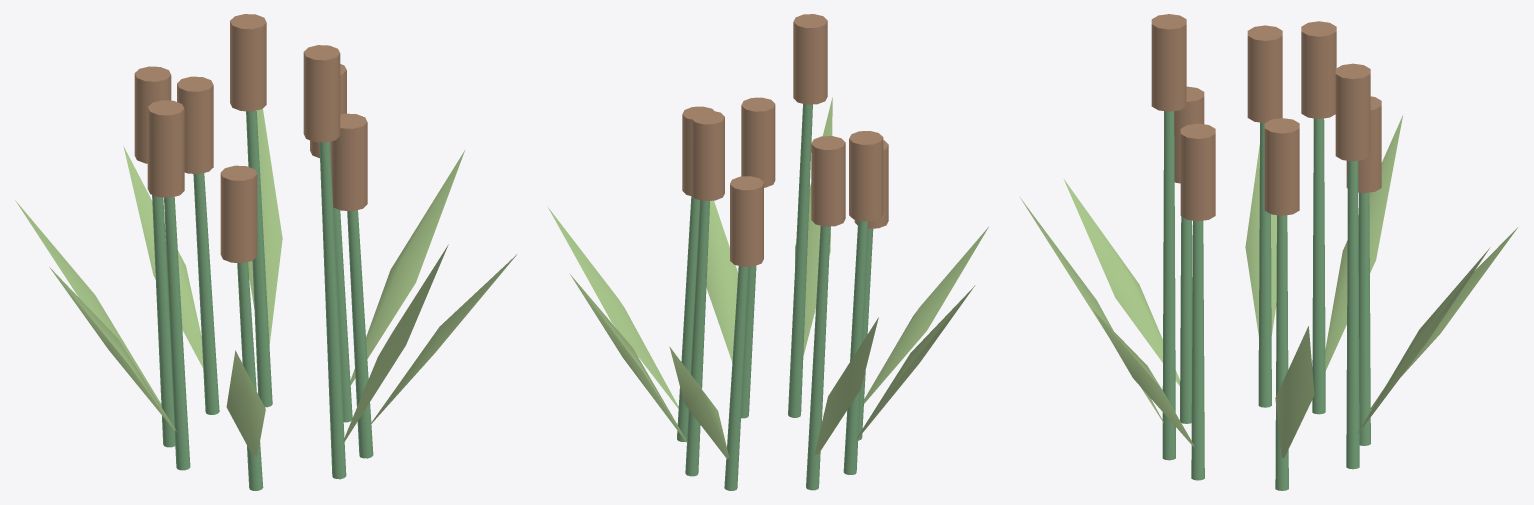
Rendered from plant-reeds-clean.glb.
3 views of the same model, side by side, from view 1: azimuth 30°, elevation 25°; view 2: azimuth 150°, elevation 25°; view 3: azimuth 270°, elevation 25° (orthographic). The views are drawn at different scales.
Parts seen in each view (by area): view 1: plant-reeds-kit-clean-green, plant-reeds-kit-clean-wood, plant-reeds-kit-clean-leaf; view 2: plant-reeds-kit-clean-wood, plant-reeds-kit-clean-green, plant-reeds-kit-clean-leaf; view 3: plant-reeds-kit-clean-green, plant-reeds-kit-clean-wood, plant-reeds-kit-clean-leaf.
Boxes of the visible parts, x1,y1,x2,y2 form: plant-reeds-kit-clean-green: (152, 110, 373, 490); plant-reeds-kit-clean-wood: (134, 14, 367, 263); plant-reeds-kit-clean-leaf: (15, 108, 517, 456); plant-reeds-kit-clean-wood: (682, 14, 888, 266); plant-reeds-kit-clean-green: (677, 104, 873, 490); plant-reeds-kit-clean-leaf: (547, 97, 988, 459); plant-reeds-kit-clean-green: (1162, 111, 1370, 490); plant-reeds-kit-clean-wood: (1151, 14, 1381, 221); plant-reeds-kit-clean-leaf: (1020, 114, 1517, 458).
Size of the model in its own units: 1.79 by 1.66 by 1.77.
